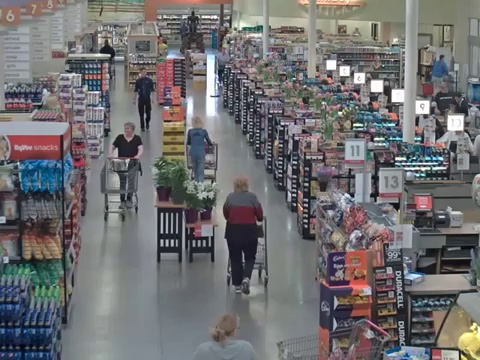face: (124, 125, 131, 137), (141, 68, 147, 76)
